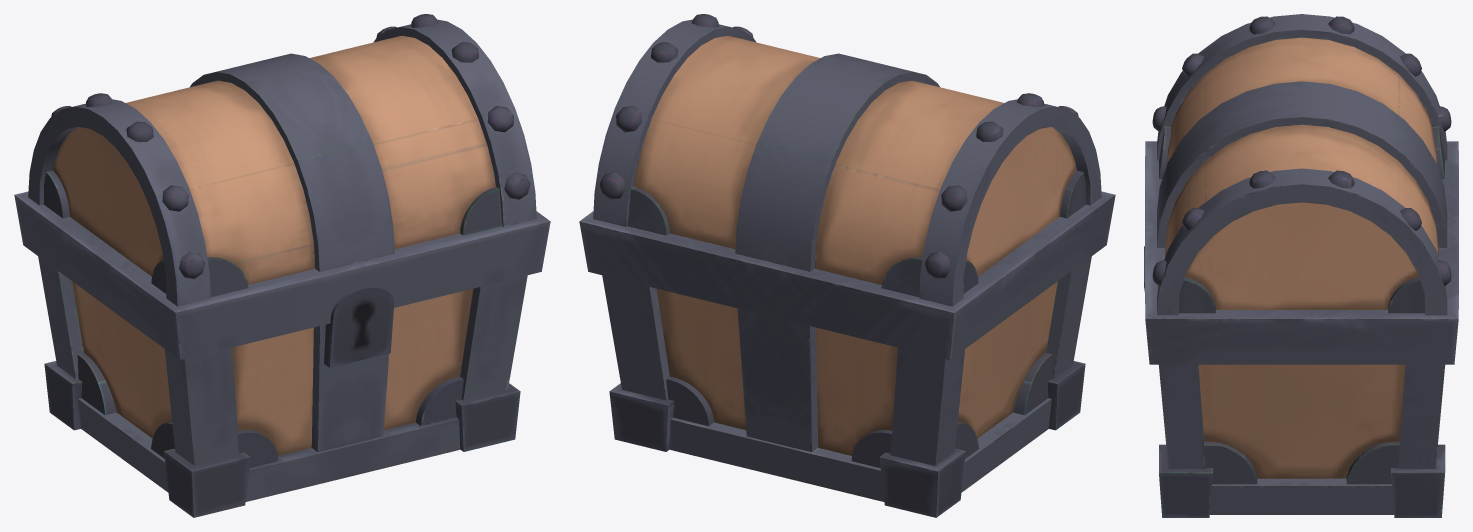
Rendered from Bau.fbx.
3 renders of one model, left to right at view 1: azimuth 30°, elevation 25°; view 2: azimuth 150°, elevation 25°; view 3: azimuth 270°, elevation 25°, orthographic. The views are drawn at different scales.
Visible parts, largest first — view 1: Bau; view 2: Bau; view 3: Bau.
Boxes of the visible parts, bbox=[...] form: Bau: bbox=[14, 14, 550, 517]; Bau: bbox=[579, 14, 1115, 517]; Bau: bbox=[1144, 14, 1458, 517].
Size of the model in its own units: 69.68 by 63.28 by 52.12.
1 material, 1 textured.
